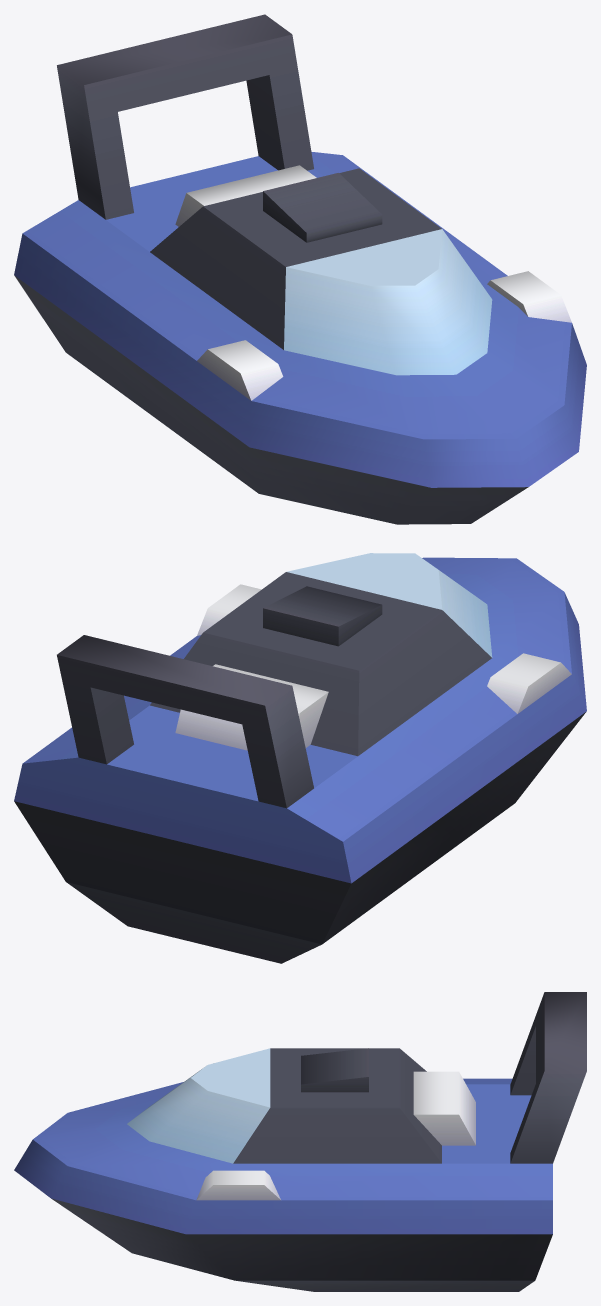
File: boat-speed-a.glb
3 renders of one model, top to bottom at view 1: azimuth 30°, elevation 25°; view 2: azimuth 150°, elevation 25°; view 3: azimuth 270°, elevation 25°, orthographic. The views are drawn at different scales.
Parts seen in each view (by area): view 1: boat-speed-a; view 2: boat-speed-a; view 3: boat-speed-a.
Part boxes in pixels (x1,y1,x2,y2): boat-speed-a: (14,14,586,524); boat-speed-a: (14,553,586,963); boat-speed-a: (14,992,586,1291).
Size of the model in its own units: 1.79 by 1.5 by 3.37.
1 material, 1 textured.
